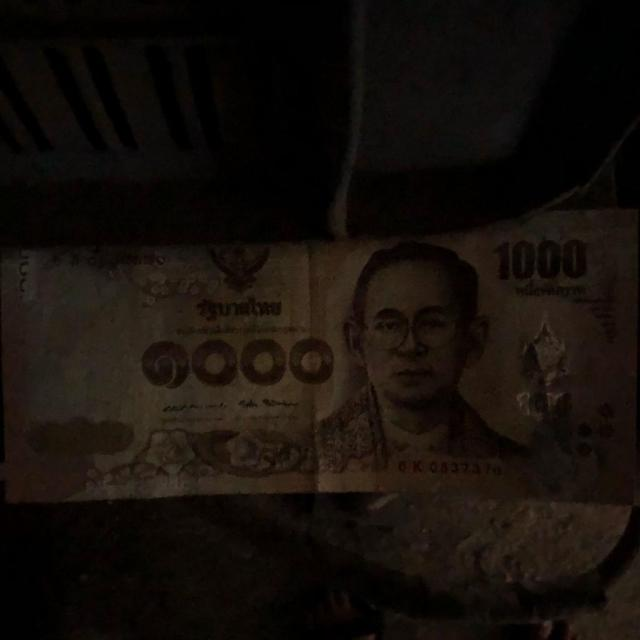THAI1000: (0, 211, 634, 503)
